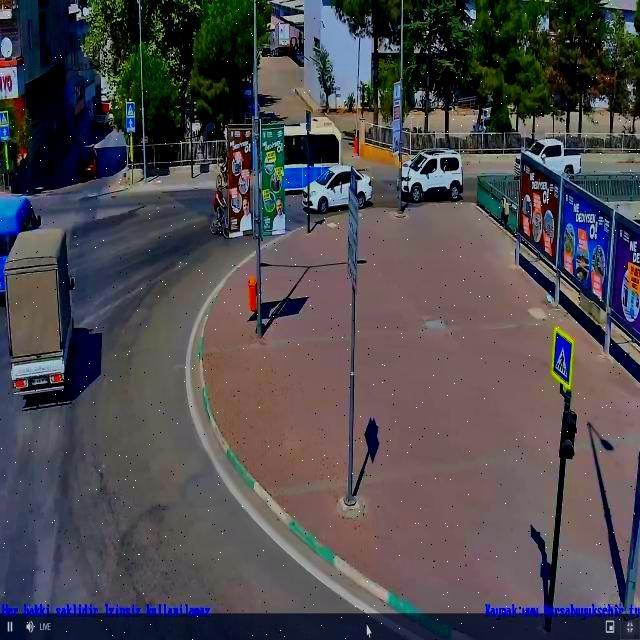Car: (302, 165, 374, 216), (398, 147, 461, 200)
Truck: (0, 227, 84, 406)
